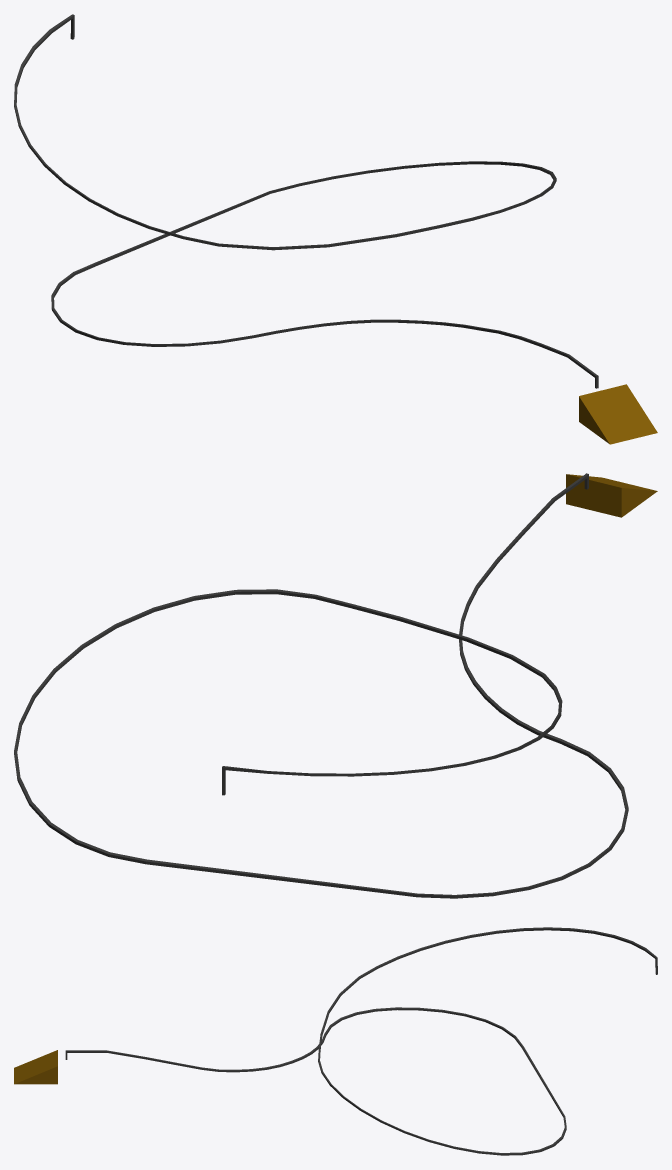
Rendered from Level2Rail3.fbx.
The picture shows the model from 3 angles, top to bottom: view 1: azimuth 30°, elevation 25°; view 2: azimuth 150°, elevation 25°; view 3: azimuth 270°, elevation 25°; orthographic projection. The views are drawn at different scales.
Parts seen in each view (by area): view 1: Level2Rail3; view 2: Level2Rail3; view 3: Level2Rail3.
Boxes of the visible parts, <box> form: Level2Rail3: <box>14,14,657,444</box>; Level2Rail3: <box>14,473,657,898</box>; Level2Rail3: <box>14,927,657,1155</box>.
Size of the model in its own units: 2064 by 683 by 3447.
